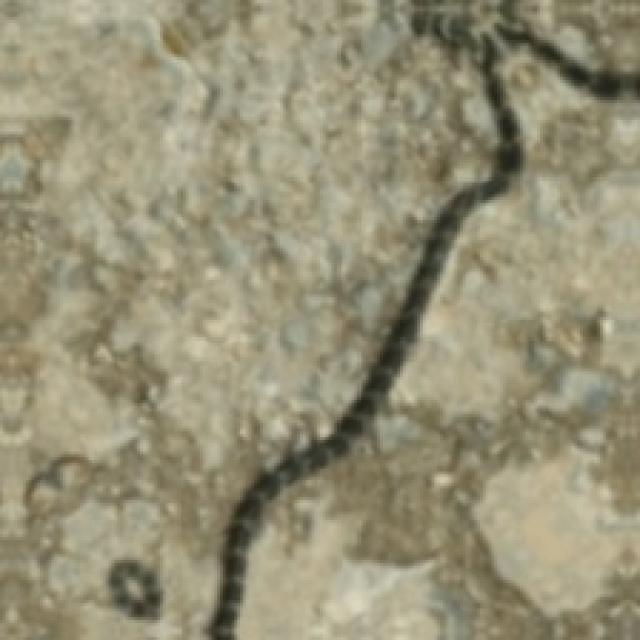king cobra: (240, 0, 637, 637)
